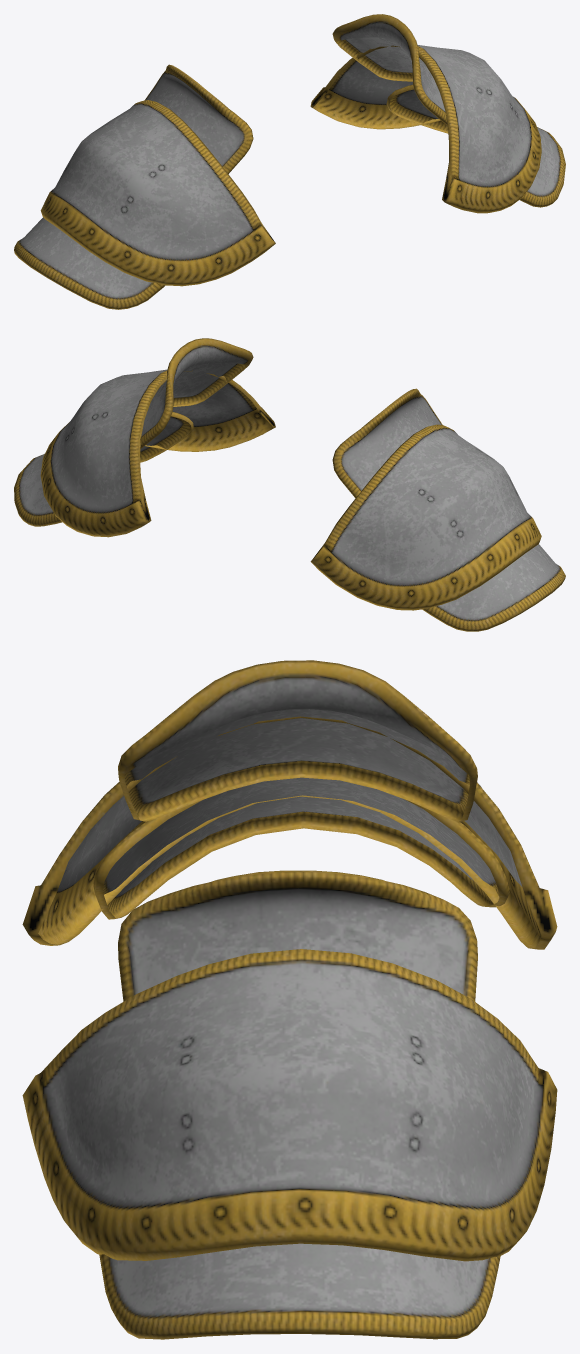
Rendered from swan_knight_pauldrons_light.fbx.
3 views of the same model, one above another, from view 1: azimuth 30°, elevation 25°; view 2: azimuth 150°, elevation 25°; view 3: azimuth 270°, elevation 25° (orthographic). The views are drawn at different scales.
Visible parts, largest first — view 1: swan_knight_pauldrons_light; view 2: swan_knight_pauldrons_light; view 3: swan_knight_pauldrons_light.
Boxes of the visible parts, bbox=[...] form: swan_knight_pauldrons_light: bbox=[14, 14, 565, 309]; swan_knight_pauldrons_light: bbox=[14, 338, 565, 631]; swan_knight_pauldrons_light: bbox=[22, 660, 557, 1339].
Size of the model in its own units: 0.6396 by 0.2832 by 0.2073.
1 material, 1 textured.
